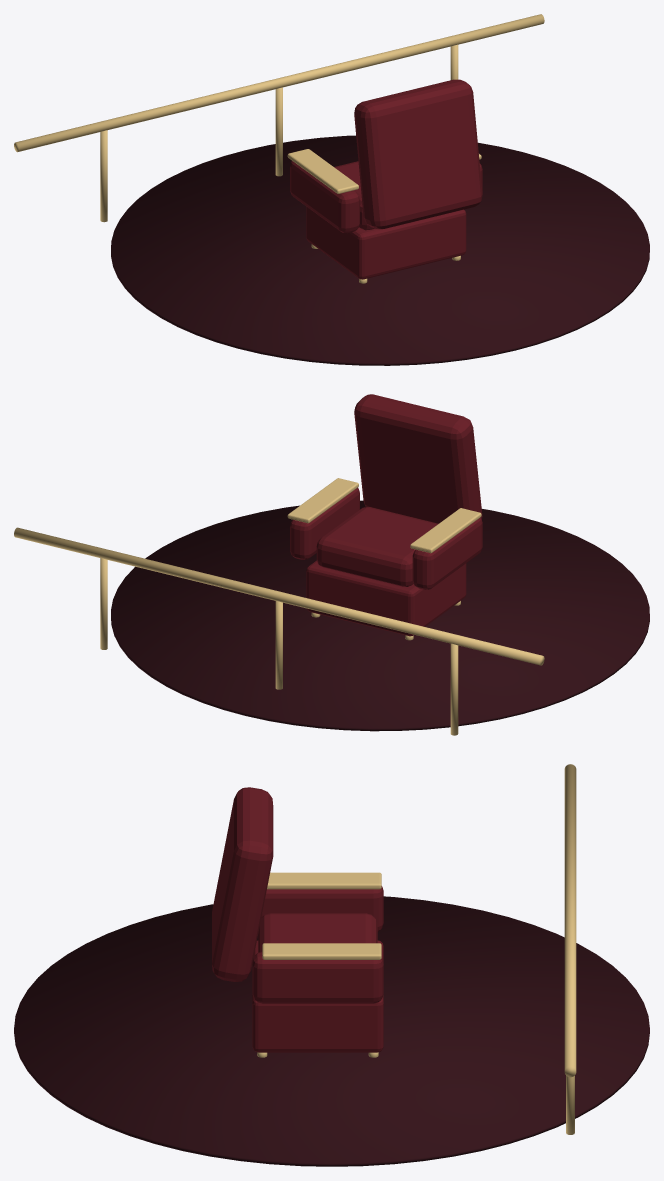
File: grand_theater.glb
The picture shows the model from 3 angles, top to bottom: view 1: azimuth 30°, elevation 25°; view 2: azimuth 150°, elevation 25°; view 3: azimuth 270°, elevation 25°; orthographic projection. The views are drawn at different scales.
Visible parts, largest first — view 1: seat carpet, armchair back, armchair base, rail.001, armrest, armrest trim, rail post.022, rail post.023, armchair cushion; view 2: seat carpet, armchair back, armchair cushion, armchair base, rail.001, armrest, armrest.001, armrest trim, armrest trim.001, rail post.022, rail post.024, rail post.023; view 3: seat carpet, armchair back, armchair base, armrest.001, rail.001, armchair cushion, armrest, armrest trim, armrest trim.001.
Part boxes in pixels (x1=…): seat carpet: x1=111, y1=135, x2=649, y2=365; armchair back: x1=354, y1=79, x2=482, y2=229; armchair base: x1=306, y1=206, x2=466, y2=279; rail.001: x1=14, y1=14, x2=544, y2=152; armrest: x1=290, y1=161, x2=359, y2=233; armrest trim: x1=287, y1=149, x2=358, y2=193; rail post.022: x1=100, y1=130, x2=107, y2=222; rail post.023: x1=275, y1=87, x2=282, y2=176; armchair cushion: x1=334, y1=161, x2=374, y2=230; seat carpet: x1=111, y1=500, x2=649, y2=731; armchair back: x1=354, y1=394, x2=482, y2=523; armchair cushion: x1=316, y1=507, x2=438, y2=586; armchair base: x1=306, y1=560, x2=466, y2=636; rail.001: x1=14, y1=527, x2=544, y2=665; armrest: x1=412, y1=517, x2=482, y2=589; armrest.001: x1=290, y1=487, x2=359, y2=559; armrest trim: x1=410, y1=508, x2=481, y2=553; armrest trim.001: x1=287, y1=478, x2=358, y2=523; rail post.022: x1=450, y1=643, x2=458, y2=735; rail post.024: x1=100, y1=558, x2=107, y2=649; rail post.023: x1=275, y1=601, x2=282, y2=689; seat carpet: x1=14, y1=896, x2=649, y2=1166; armchair back: x1=212, y1=787, x2=273, y2=981; armchair base: x1=252, y1=940, x2=383, y2=1052; armrest.001: x1=252, y1=952, x2=383, y2=1003; rail.001: x1=564, y1=764, x2=576, y2=1077; armchair cushion: x1=258, y1=913, x2=377, y2=952; armrest: x1=261, y1=886, x2=383, y2=931; armrest trim: x1=267, y1=872, x2=381, y2=889; armrest trim.001: x1=262, y1=943, x2=381, y2=959.
Size of the model in its own units: 3.6 by 1.21 by 3.2.
